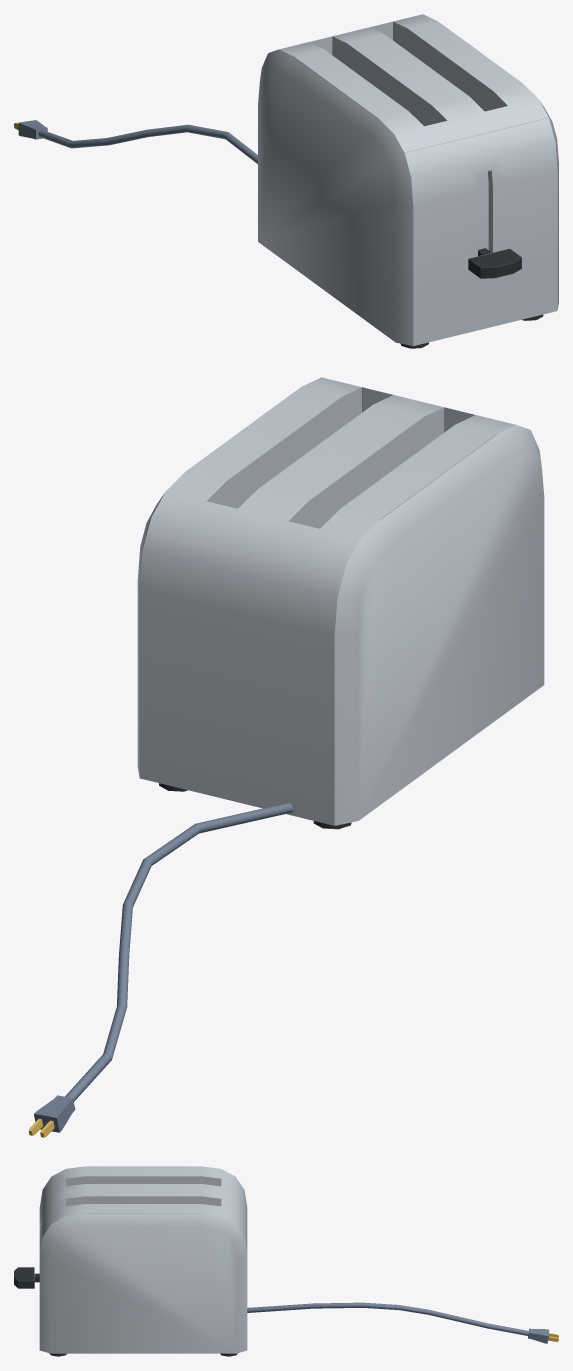
Rendered from Toaster.FBX.
3 renders of one model, top to bottom at view 1: azimuth 30°, elevation 25°; view 2: azimuth 150°, elevation 25°; view 3: azimuth 270°, elevation 25°, orthographic. The views are drawn at different scales.
Visible parts, largest first — view 1: Box002; view 2: Box002; view 3: Box002.
Boxes of the visible parts, box(x1,y1,x2,y2) form: Box002: box(14, 14, 558, 348); Box002: box(28, 377, 544, 1137); Box002: box(14, 1166, 558, 1356).
Bounding box in the file's own units: 25.8 × 37.68 × 104.
1 material, 1 textured.
